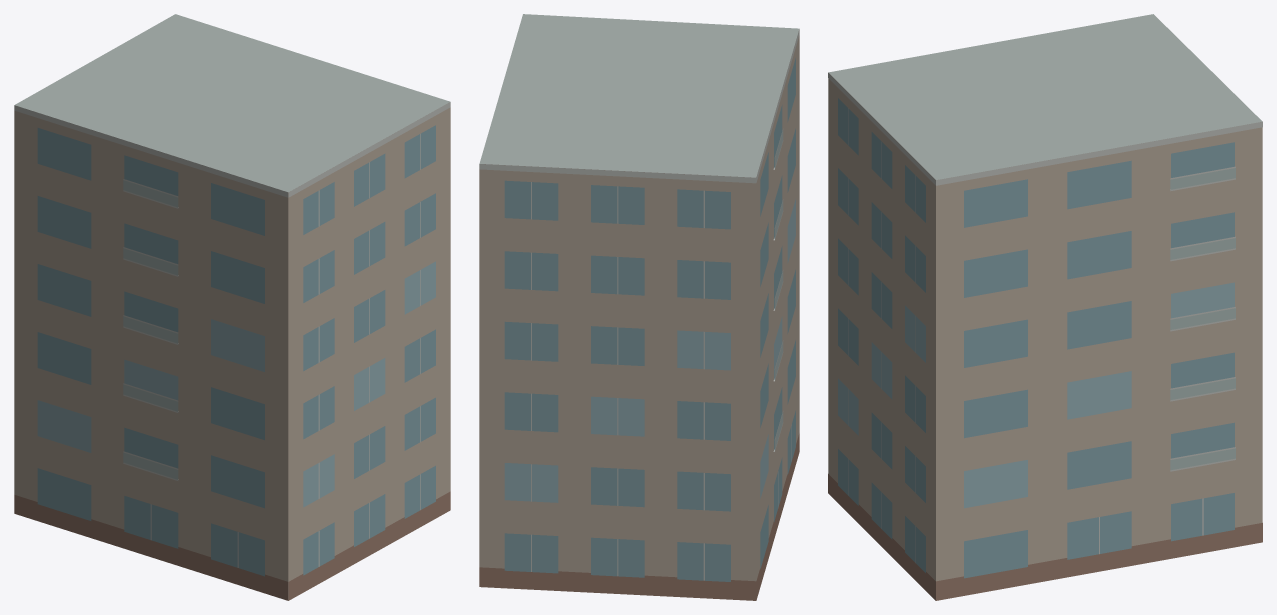
The model's file is survey-upis-32582849.glb.
The picture shows the model from 3 angles, left to right: view 1: azimuth 30°, elevation 25°; view 2: azimuth 150°, elevation 25°; view 3: azimuth 270°, elevation 25°; orthographic projection. The views are drawn at different scales.
Visible parts, largest first — view 1: survey-upis-32582849.tmp; view 2: survey-upis-32582849.tmp; view 3: survey-upis-32582849.tmp.
Part boxes in pixels (left/top/right/bottom): survey-upis-32582849.tmp: left=14, top=14, right=450, bottom=600; survey-upis-32582849.tmp: left=479, top=14, right=799, bottom=600; survey-upis-32582849.tmp: left=828, top=14, right=1262, bottom=600.
Bounding box in the file's own units: 15.52 × 18.3 × 17.14.
